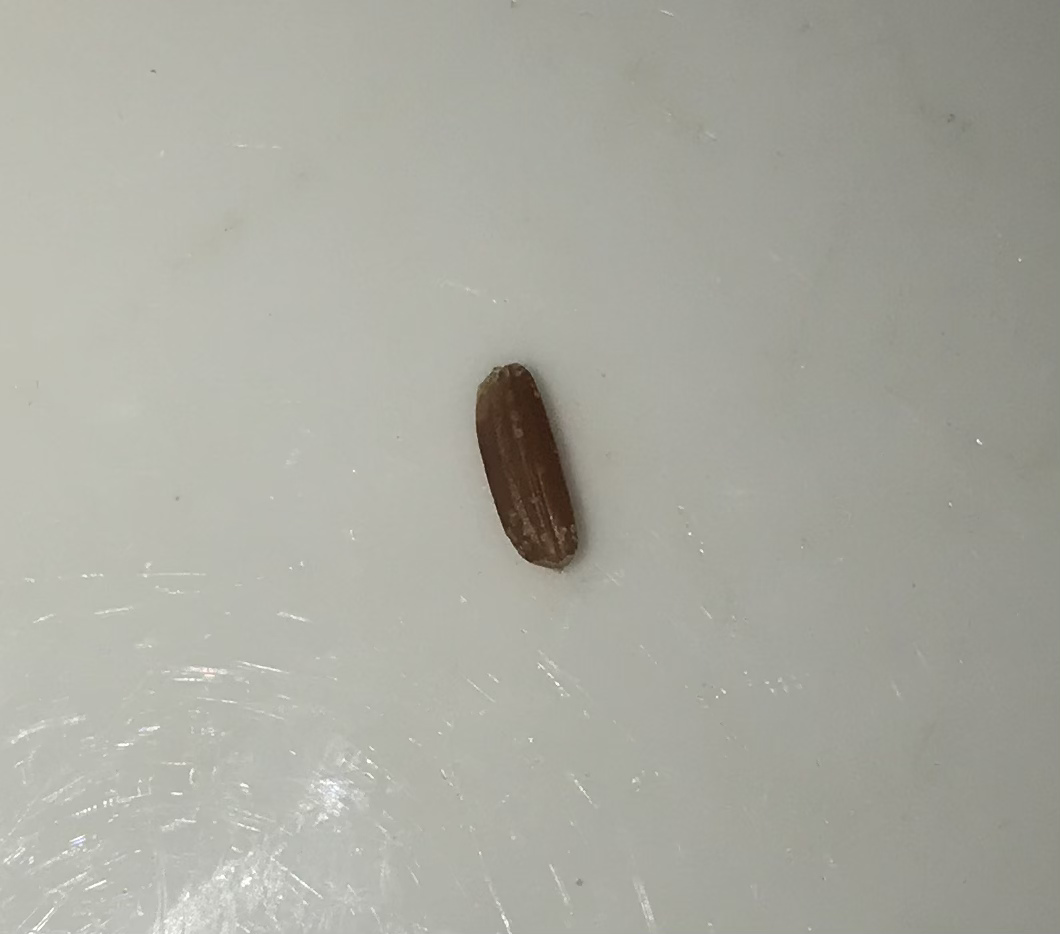Gao Lut Do: (475, 360, 588, 578)
